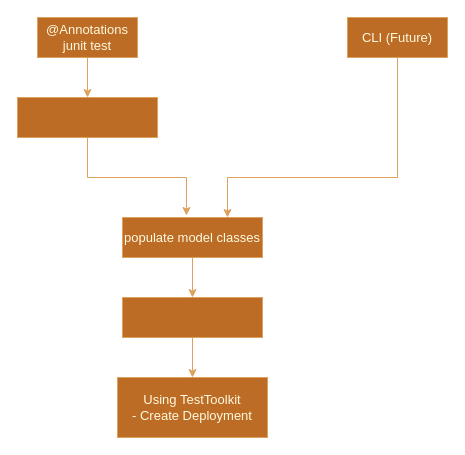
The diagram is 465 pixels wide and 455 high, and some of its shapes have lost their labels. The centre of each missing label's shape, as x and y in pixels:
create topology model object: the point at 192,317
read annotations: the point at 87,117
